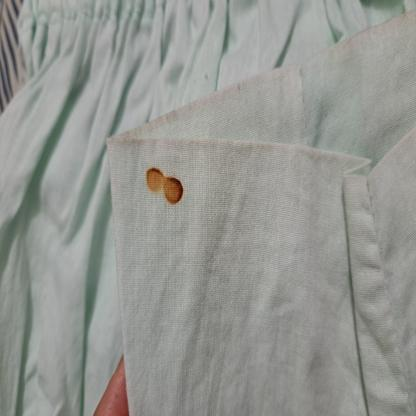spot: (145, 154, 193, 214)
